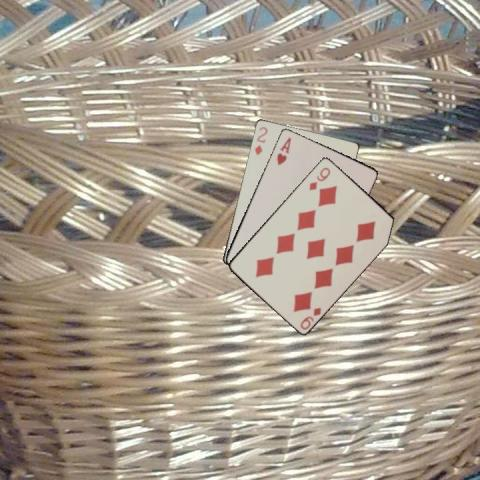2d: (251, 123, 269, 156)
9d: (297, 304, 323, 331), (306, 164, 331, 191)
Ah: (273, 134, 292, 167)
